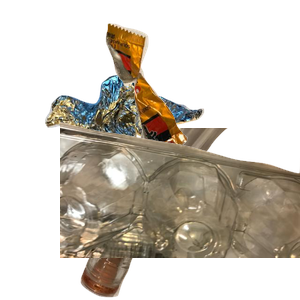glass: (78, 128, 298, 300)
metal: (42, 72, 239, 229)
plastic: (60, 120, 300, 300)
trash: (103, 21, 300, 174)
